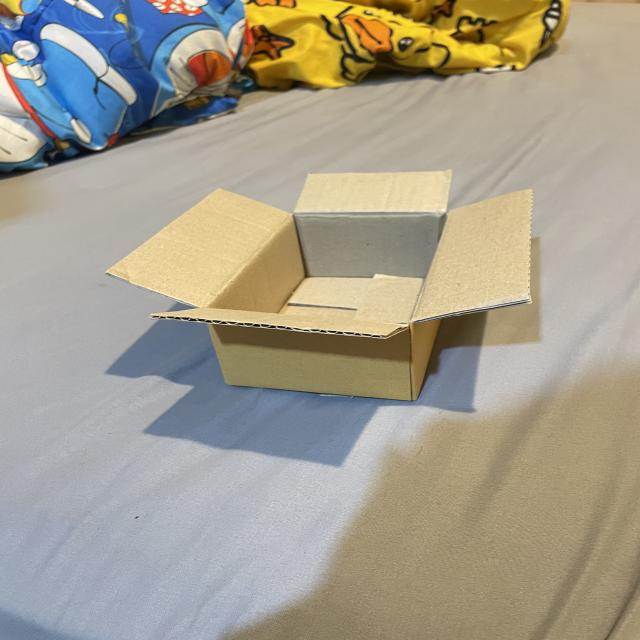box: (105, 169, 534, 401)
opened: (106, 170, 534, 340)
